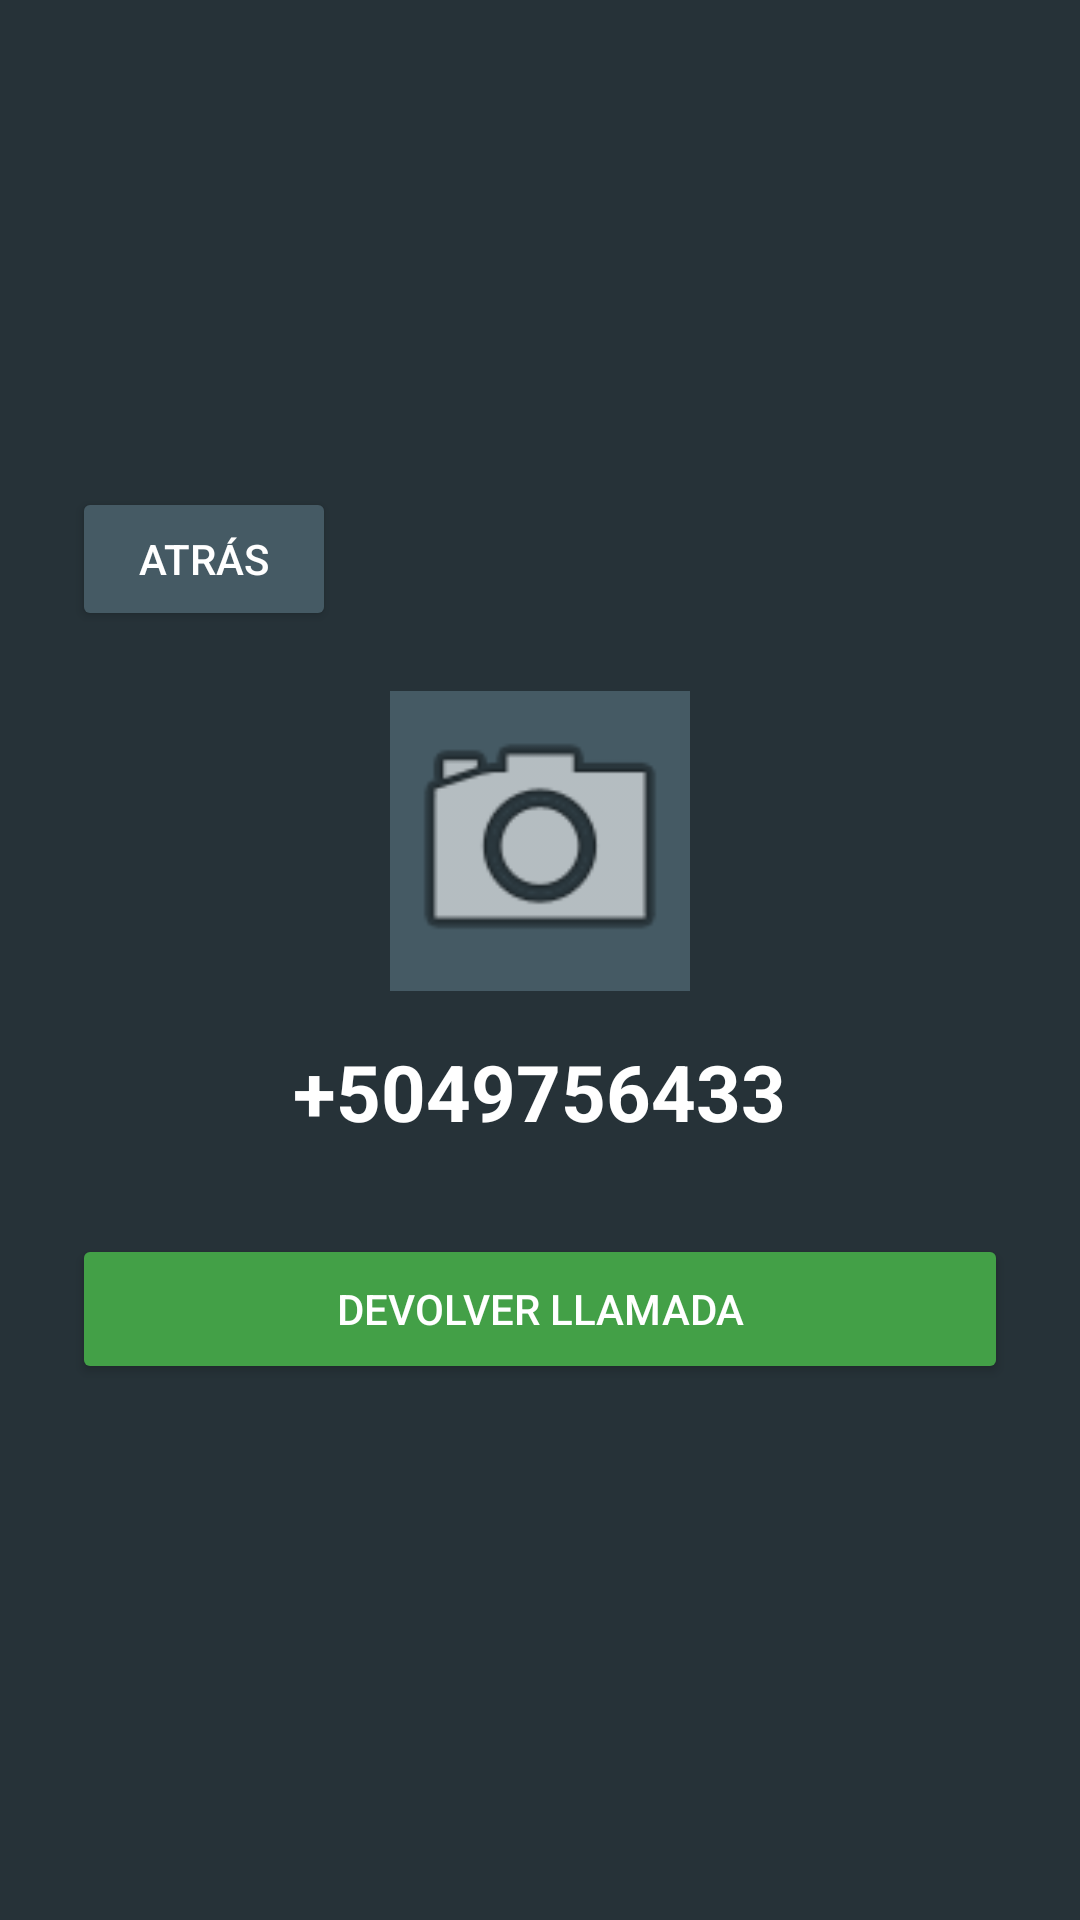

Where to tap for icons on this 1080*1920 app screen, as (x,y):
camera: (540,841)
